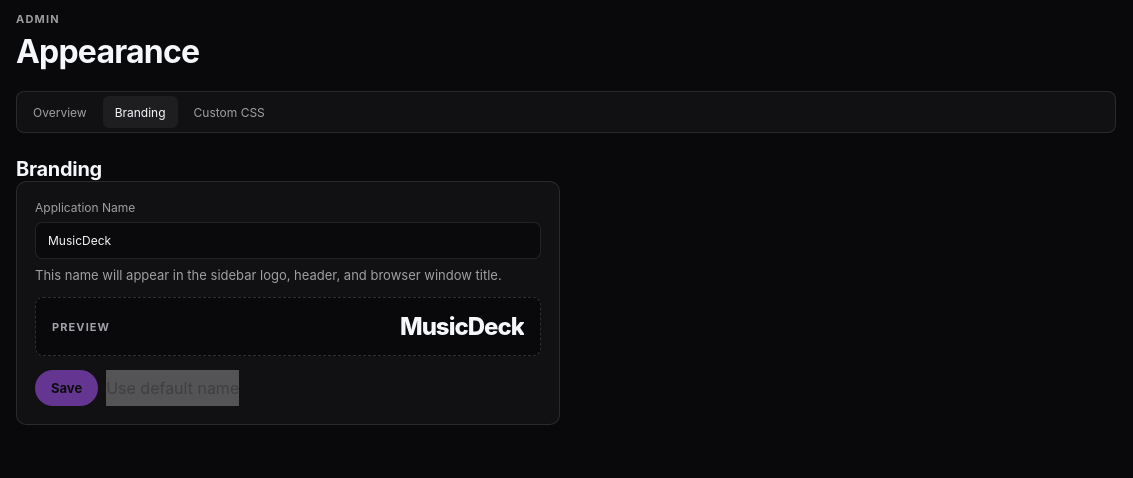
Scenario: Appearance navigation and branding › saves the application name and applies it immediately
The width and height of the screenshot is (1133, 478).
Expected: the text "This name will appear in the sidebar logo, header, and browser window title." is shown, [35,267,541,283]
Expected: the button "Save" is disabled, [35,370,98,406]
Replace the text in the field labelled "Application Name" with "  Basement FM " at (288, 240), box [35,222,541,259]
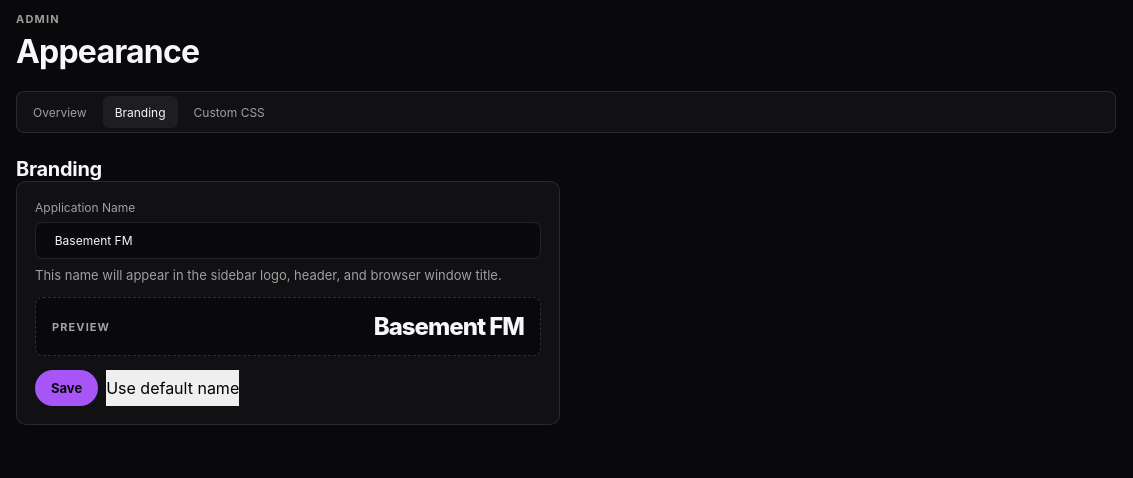
Click the button "Save" at (67, 388), box [35,370,98,406]
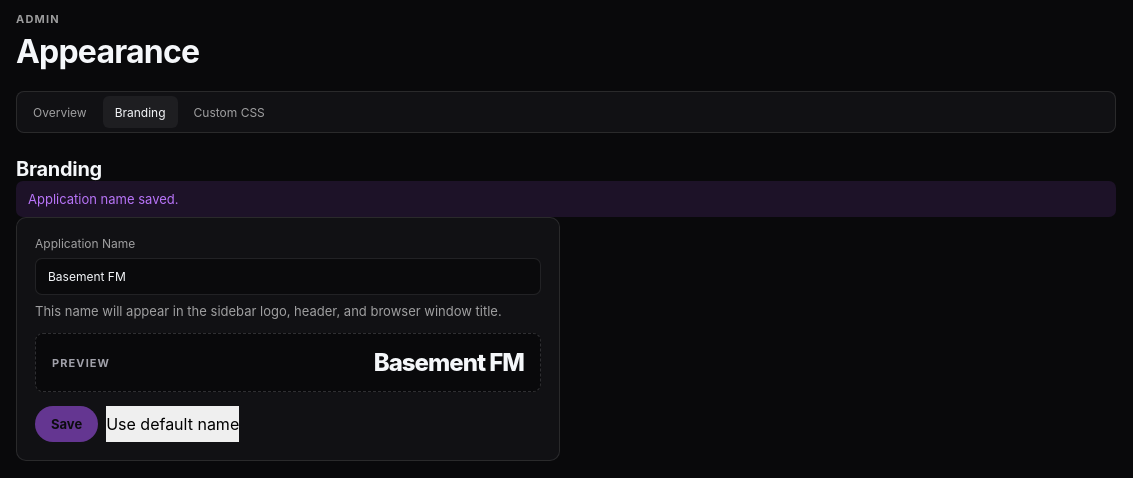
Now the element showing "Basement FM" is shown, box [374,348,524,377]
Now the text "Application name saved." is shown, box [16,181,1116,217]
